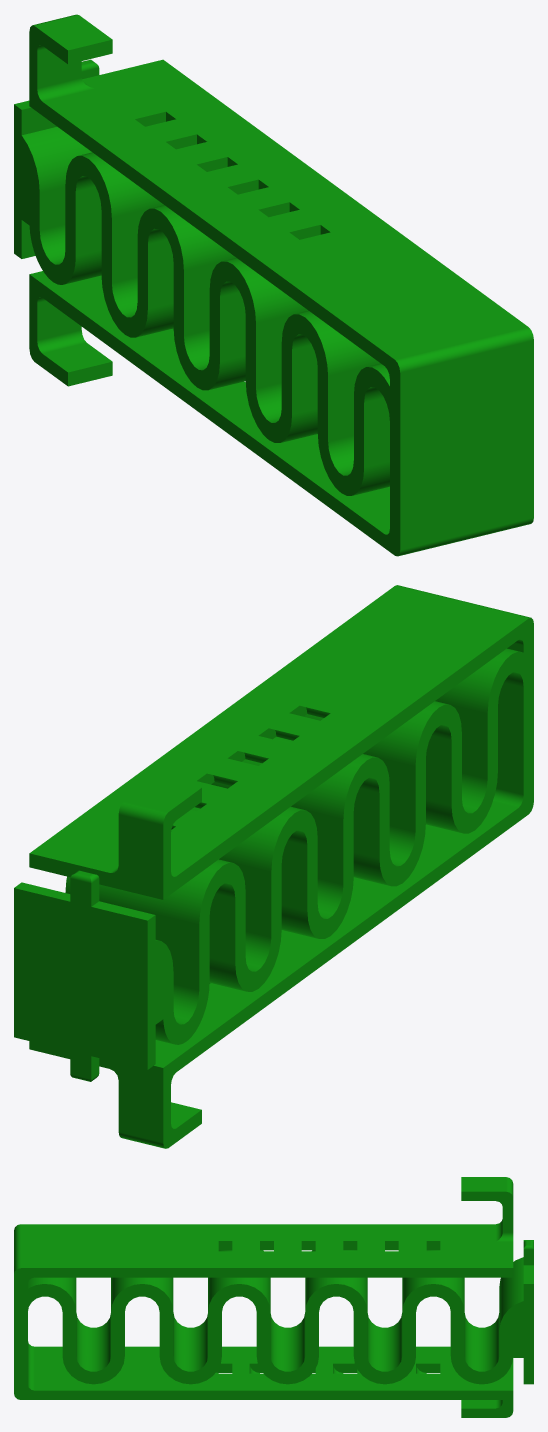
Rendered from Lanzador.obj.
3 renders of one model, top to bottom at view 1: azimuth 30°, elevation 25°; view 2: azimuth 150°, elevation 25°; view 3: azimuth 270°, elevation 25°, orthographic. The views are drawn at different scales.
Visible parts, largest first — view 1: Sólido1; view 2: Sólido1; view 3: Sólido1.
Boxes of the visible parts, x1,y1,x2,y2 form: Sólido1: [14, 14, 533, 556]; Sólido1: [14, 585, 533, 1148]; Sólido1: [14, 1177, 533, 1417].
Bounding box in the file's own units: 30 × 72 × 150.
